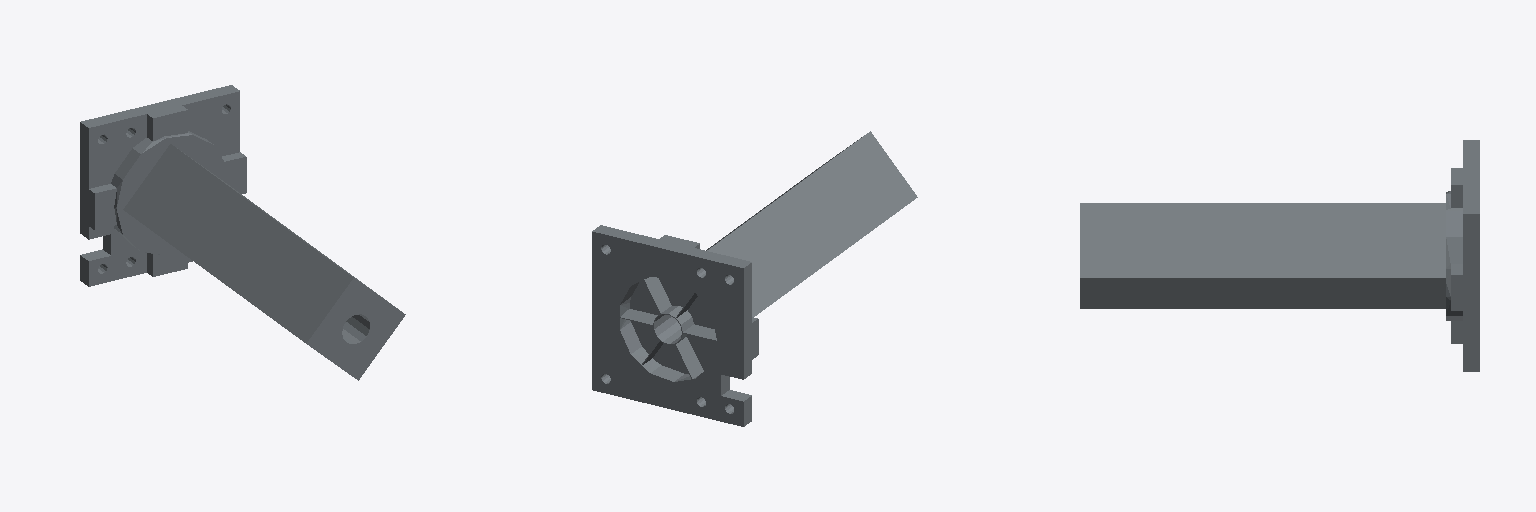
File: TurntableStabiliser2.obj
3 views of the same model, side by side, from view 1: azimuth 30°, elevation 25°; view 2: azimuth 150°, elevation 25°; view 3: azimuth 270°, elevation 25° (orthographic).
Parts seen in each view (by area): view 1: TurntableStabiliser2; view 2: TurntableStabiliser2; view 3: TurntableStabiliser2.
Boxes of the visible parts, x1,y1,x2,y2 form: TurntableStabiliser2: [80, 85, 405, 380]; TurntableStabiliser2: [592, 131, 917, 426]; TurntableStabiliser2: [1080, 140, 1479, 371].
Bounding box in the file's own units: 43 × 43 × 98.32.